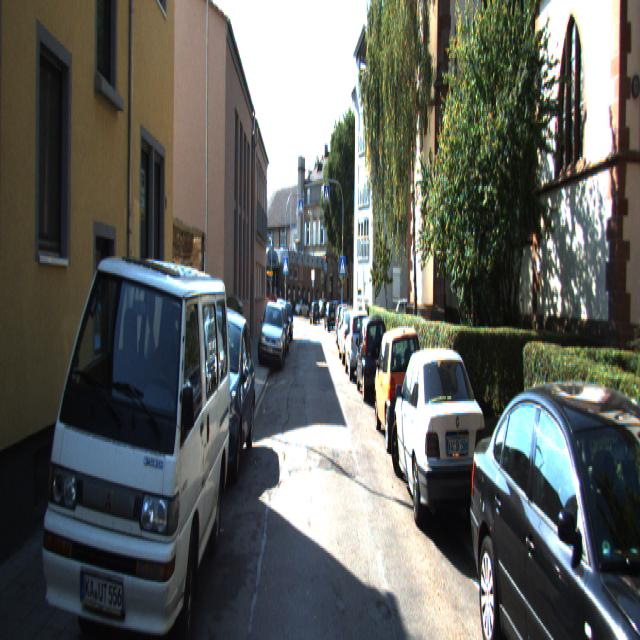Car: (41, 234, 232, 638), (468, 358, 639, 638), (389, 336, 496, 546), (180, 302, 256, 483), (373, 322, 429, 456), (356, 312, 392, 400), (343, 309, 372, 380), (259, 301, 284, 373), (338, 310, 360, 366)
